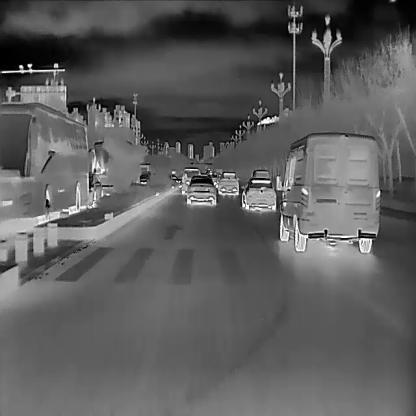car: (279, 133, 380, 253), (0, 101, 88, 236), (92, 140, 141, 187), (239, 179, 276, 213), (184, 175, 216, 204), (216, 171, 238, 196), (181, 167, 197, 195), (251, 170, 270, 188)
crosswalk: (47, 241, 319, 294)
